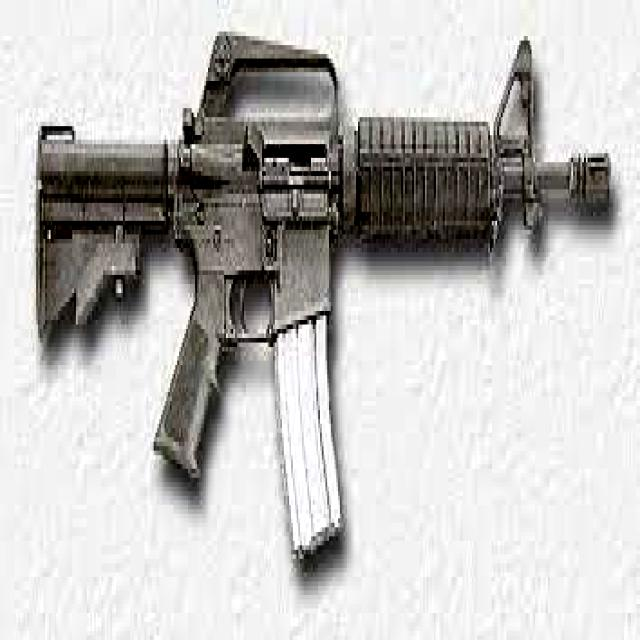m16: (33, 24, 471, 571)
